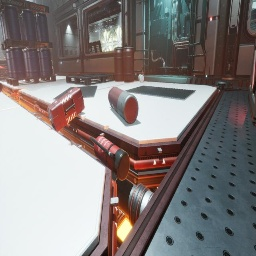0: (138, 74, 144, 82)
FireExtinguisher ]: (90, 136, 130, 181), (45, 78, 46, 79)
FirstAidBox ,: (47, 87, 85, 132), (4, 56, 6, 60)
NitrogenTank ,: (108, 86, 139, 124), (0, 82, 3, 90)
